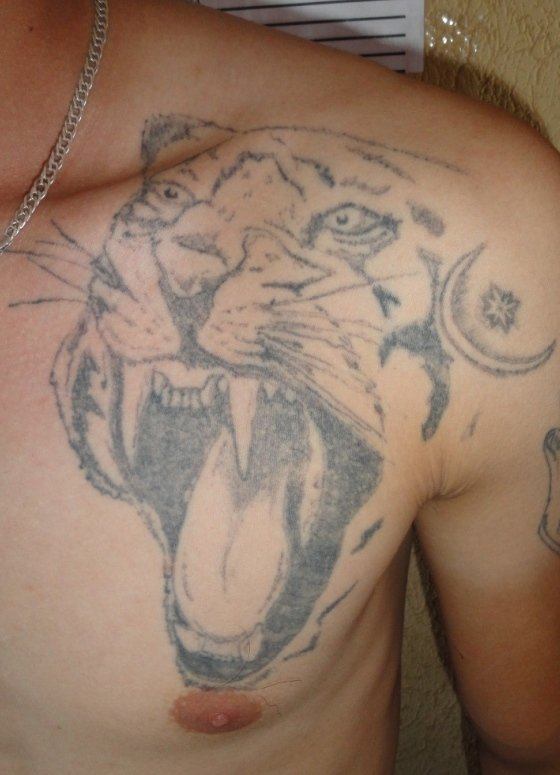tatu5_tigr: (43, 83, 522, 708)
